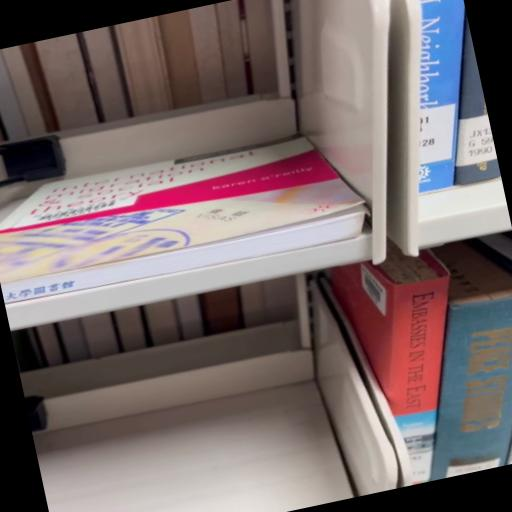flat: (1, 136, 366, 305)
